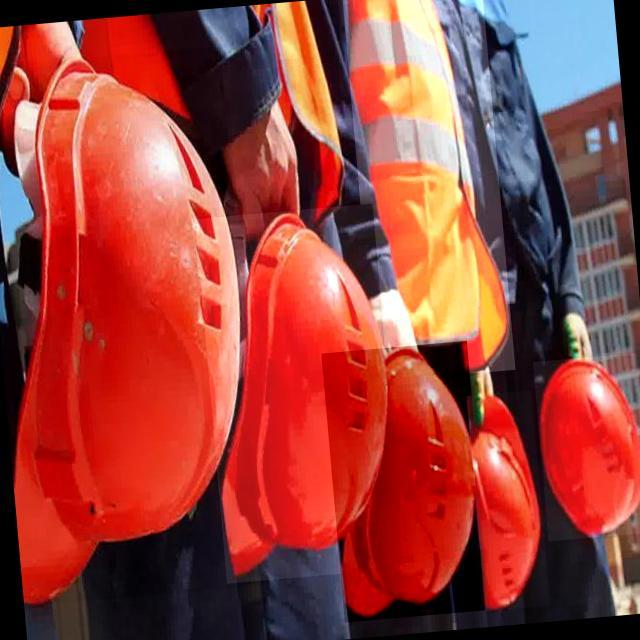Helmet: (0, 46, 267, 606), (195, 203, 404, 583), (321, 340, 490, 622), (532, 352, 640, 541), (466, 391, 550, 612)
Safety Vest: (342, 0, 515, 381)
